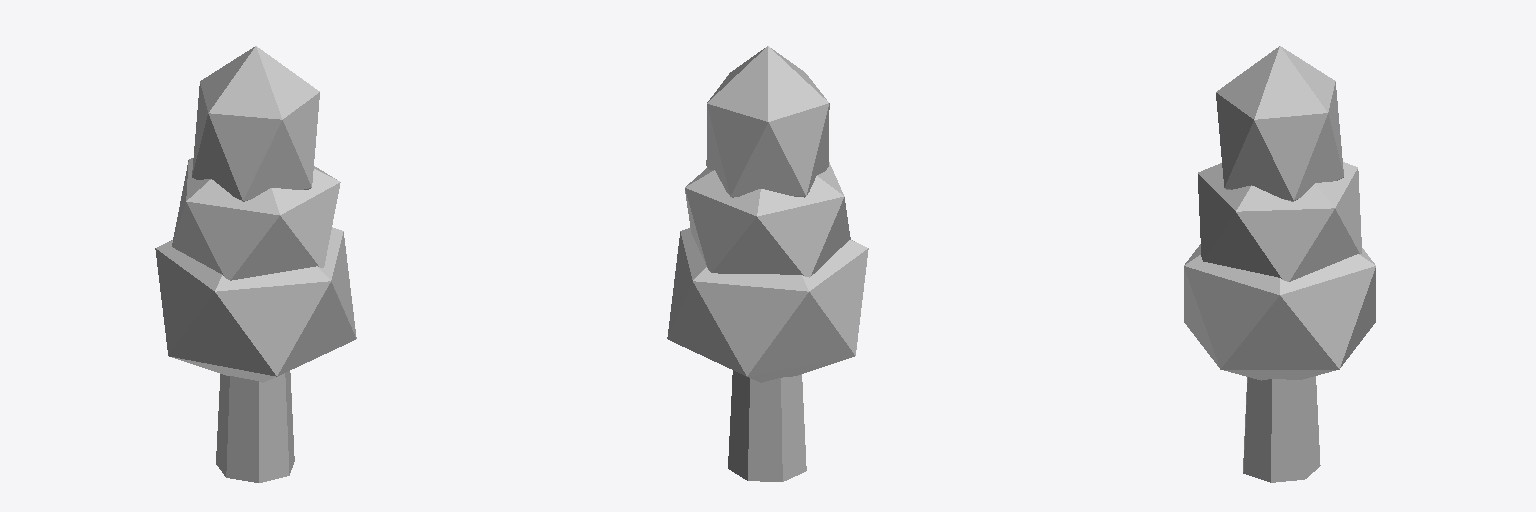
Rendered from tree1.obj.
The picture shows the model from 3 angles: view 1: azimuth 30°, elevation 25°; view 2: azimuth 150°, elevation 25°; view 3: azimuth 270°, elevation 25°; orthographic projection.
Visible parts, largest first — view 1: tree1_Cylinder.015; view 2: tree1_Cylinder.015; view 3: tree1_Cylinder.015.
Part boxes in pixels (x1,y1,x2,y2): tree1_Cylinder.015: (155,46,356,482); tree1_Cylinder.015: (667,46,868,481); tree1_Cylinder.015: (1184,46,1375,482).
Size of the model in its own units: 2.36 by 5.41 by 2.25.